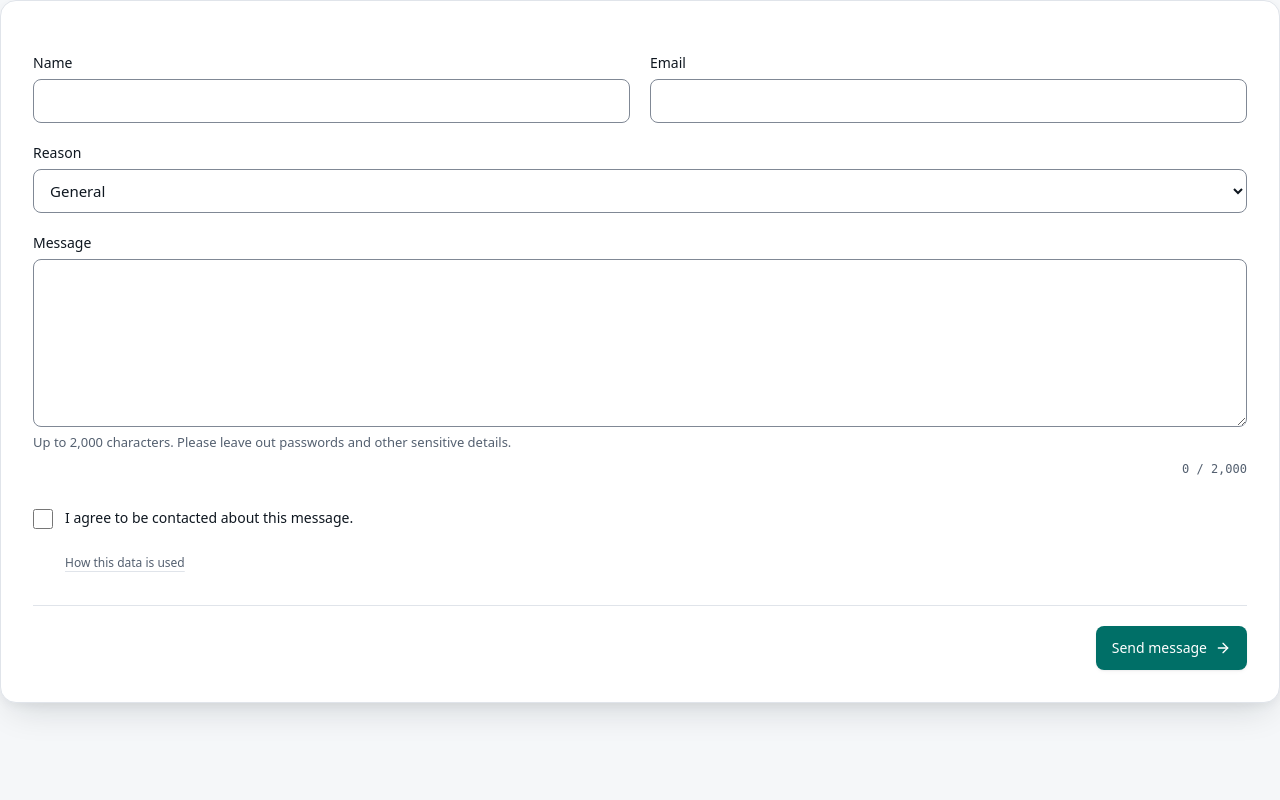
Test: contact form › shows the server retry interval and preserves input after a 429
The width and height of the screenshot is (1280, 800).
Type "Sam" into the field labelled "Name".
click(332, 101); type("Sam")  # box [33,79,630,123]
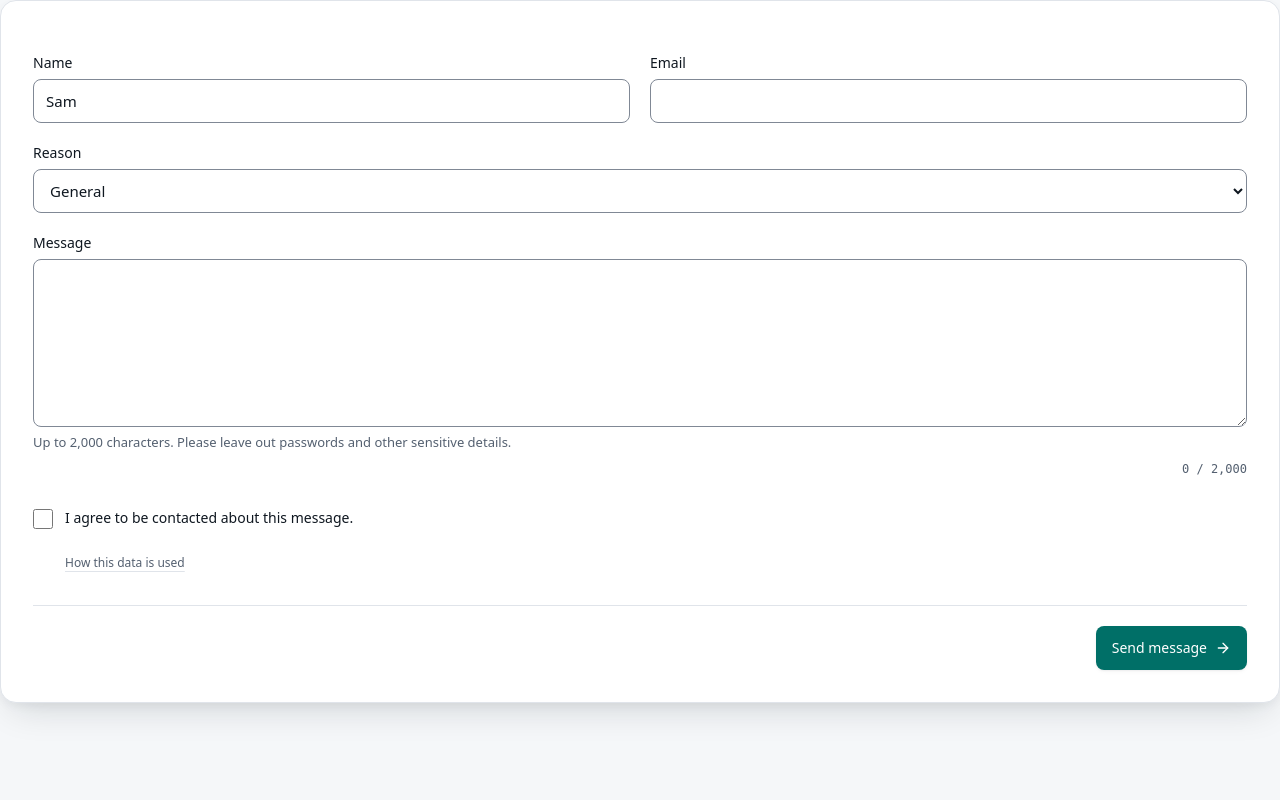
Type "sam@example.com" into the field labelled "Email".
click(948, 101); type("sam@example.com")  # box [650,79,1247,123]
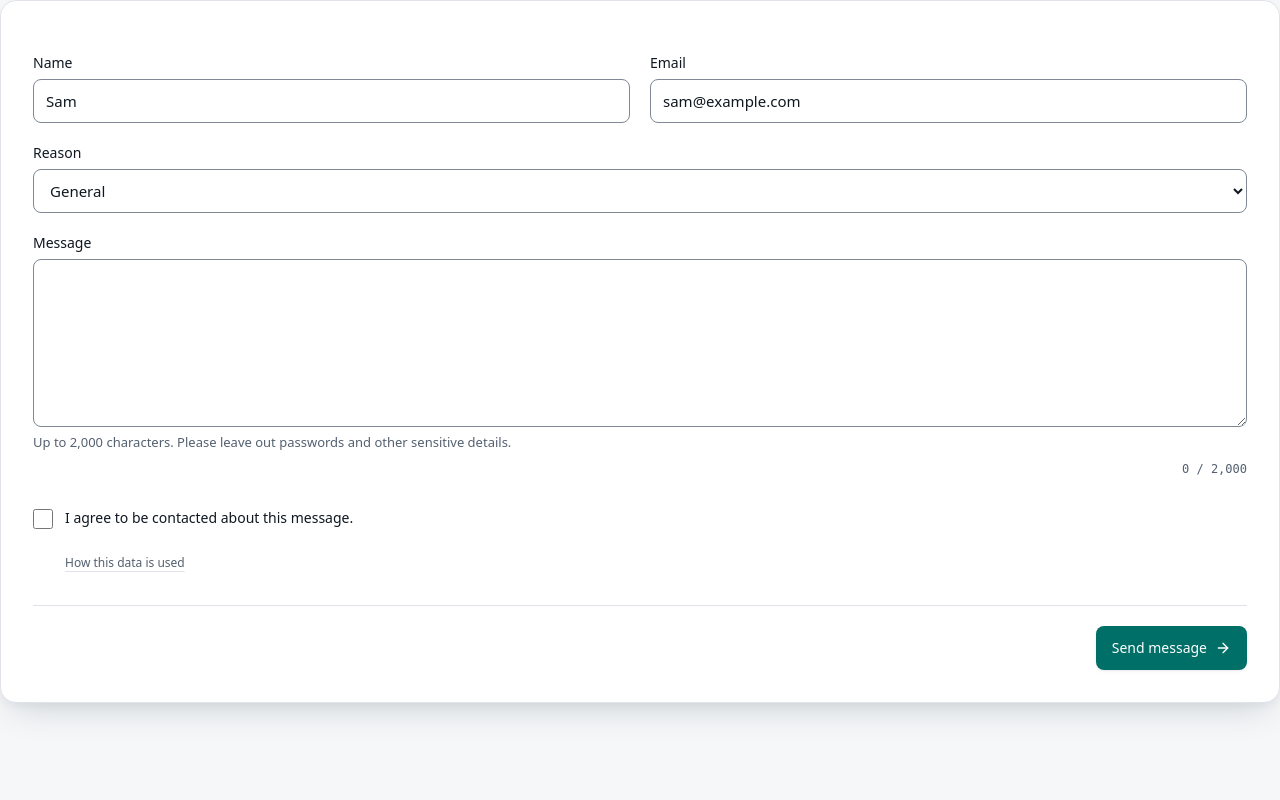
Select "Feedback" in the dropdown labelled "Reason" at point(640, 191), box [33,169,1247,213]
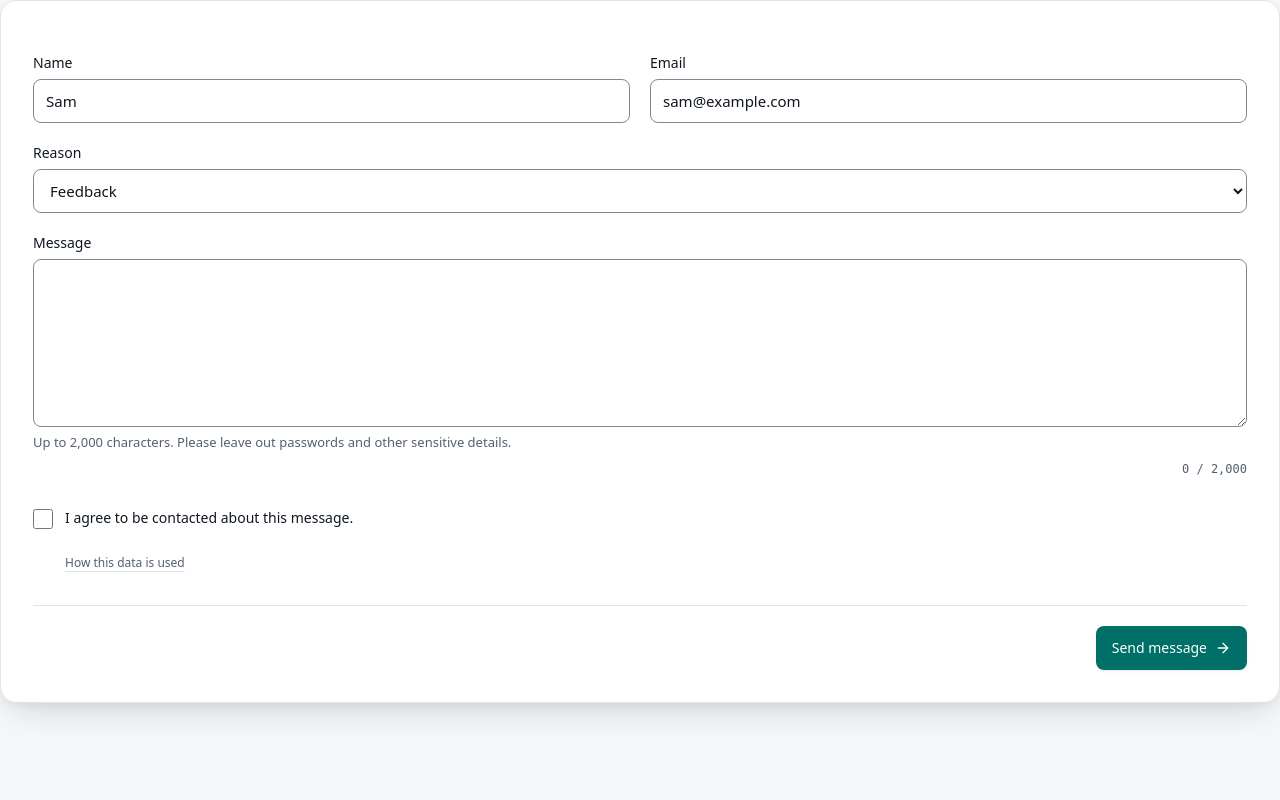
Type "Please add shared reviews." into the text box labelled "Message".
click(640, 343); type("Please add shared reviews.")  # box [33,259,1247,427]
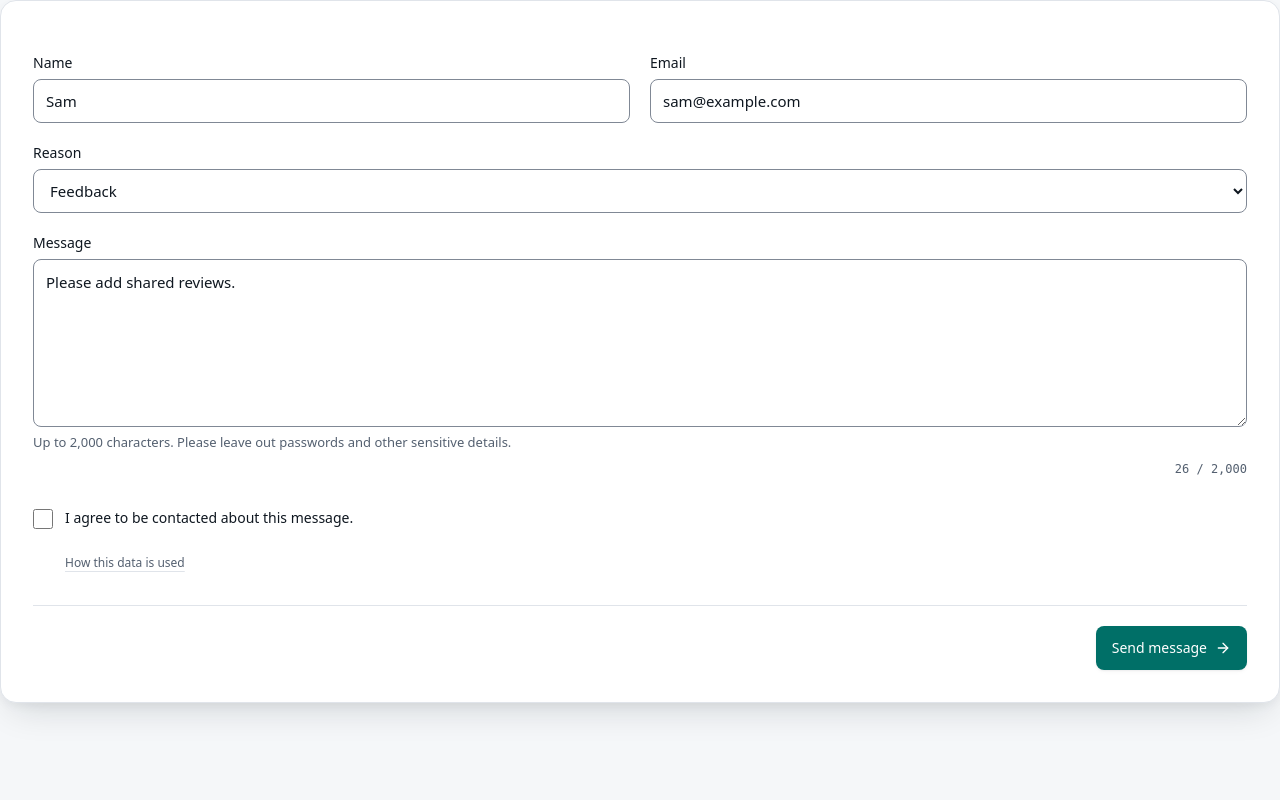
Click the checkbox.
click(43, 519)  # box [33,509,53,529]
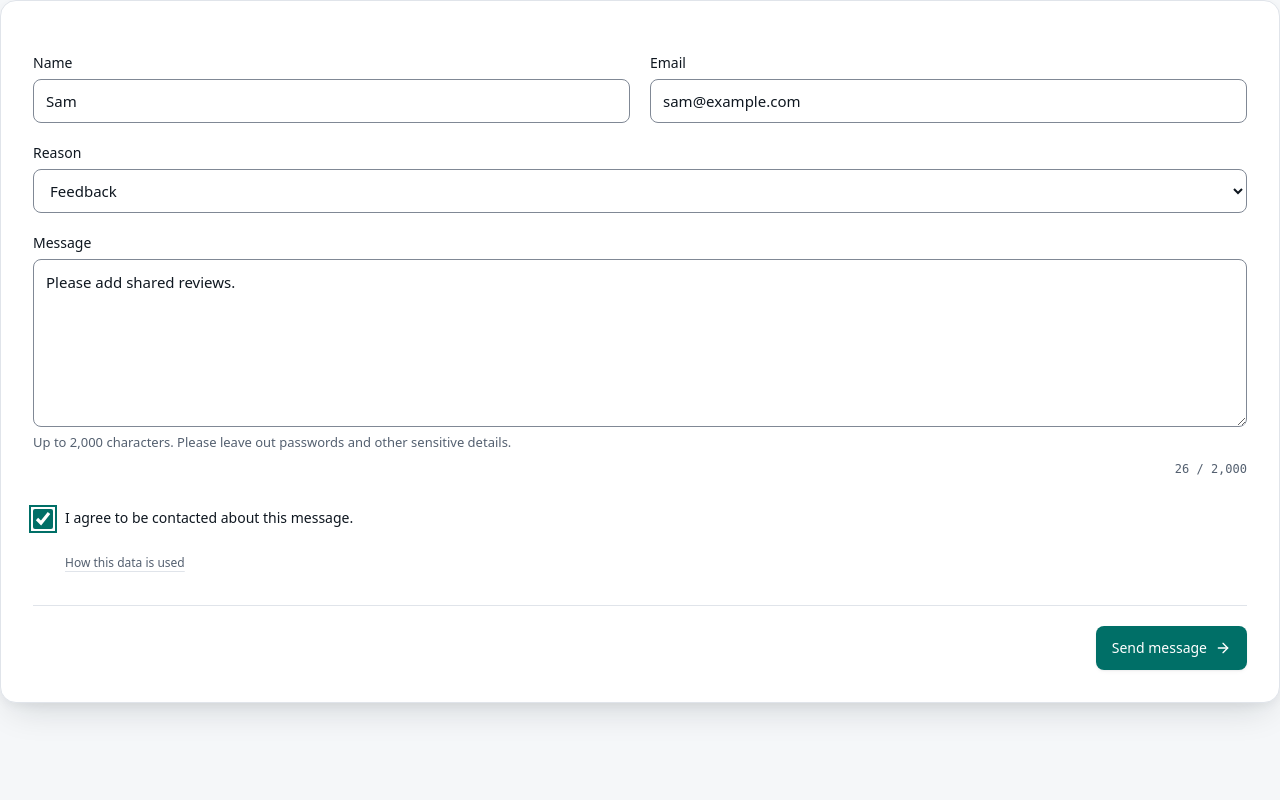
Click the button "Send message".
click(1171, 648)  # box [1096,626,1247,670]
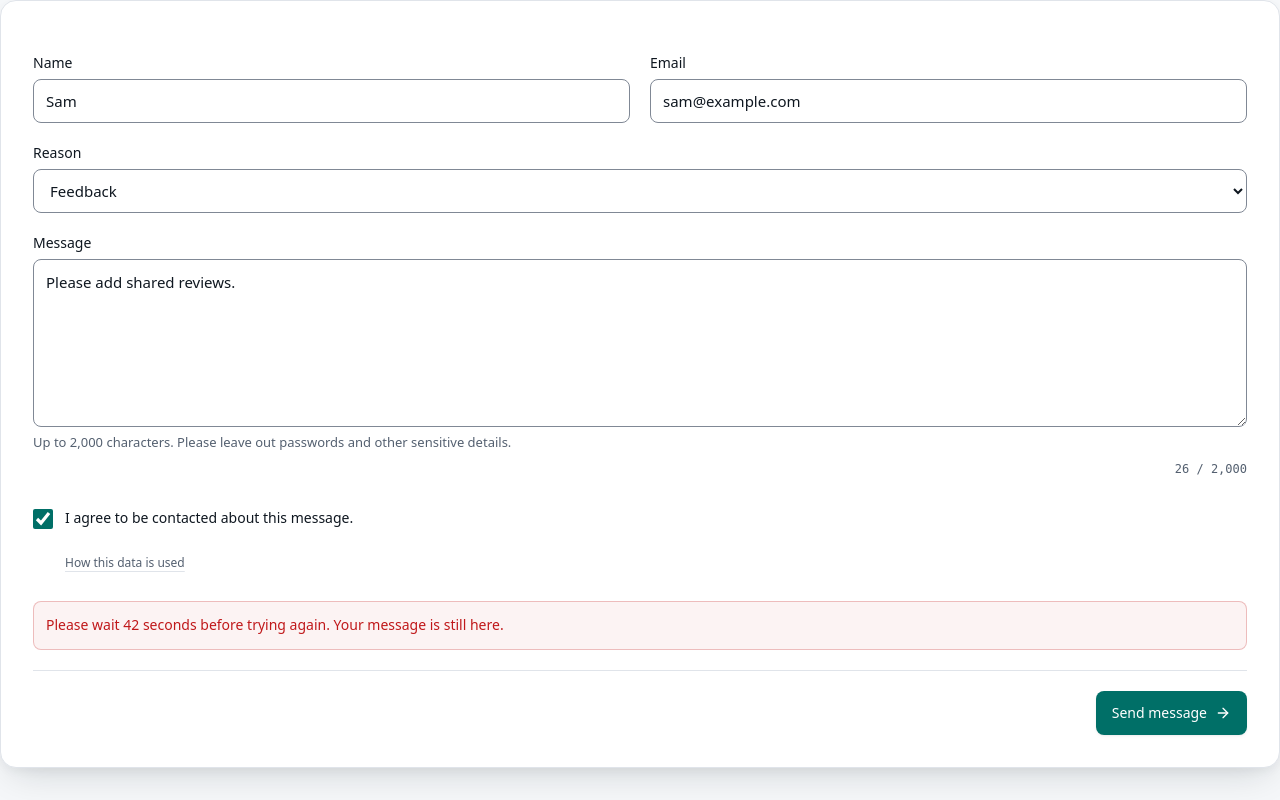
Expected: the checkbox is checked, [33,509,53,529]
Expected: the message shows "Please wait 42 seconds", [46,615,504,634]
